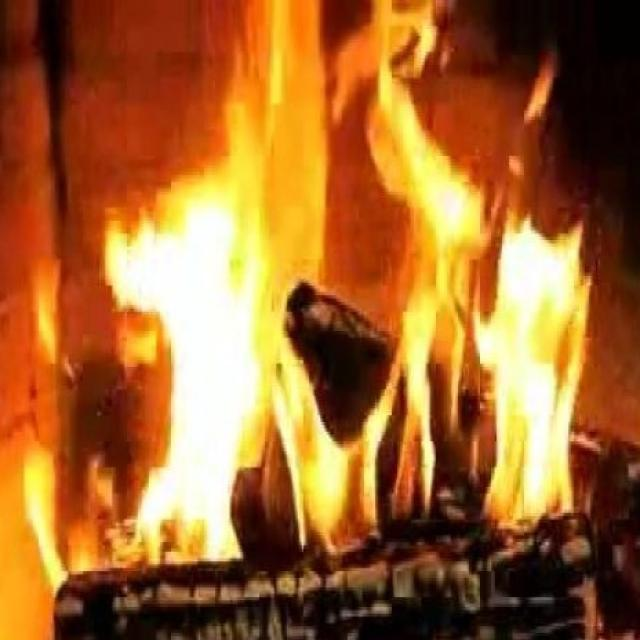Fire: (29, 1, 598, 605)
